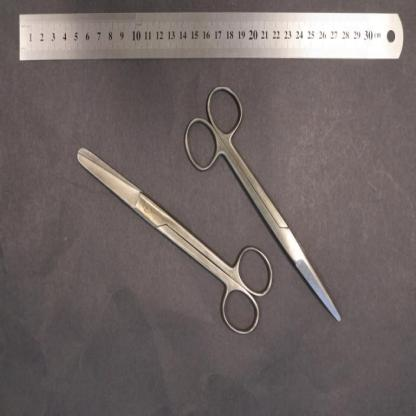Curved Mayo Scissors: (184, 82, 342, 323)
Dressing Scissors: (77, 148, 273, 338)
